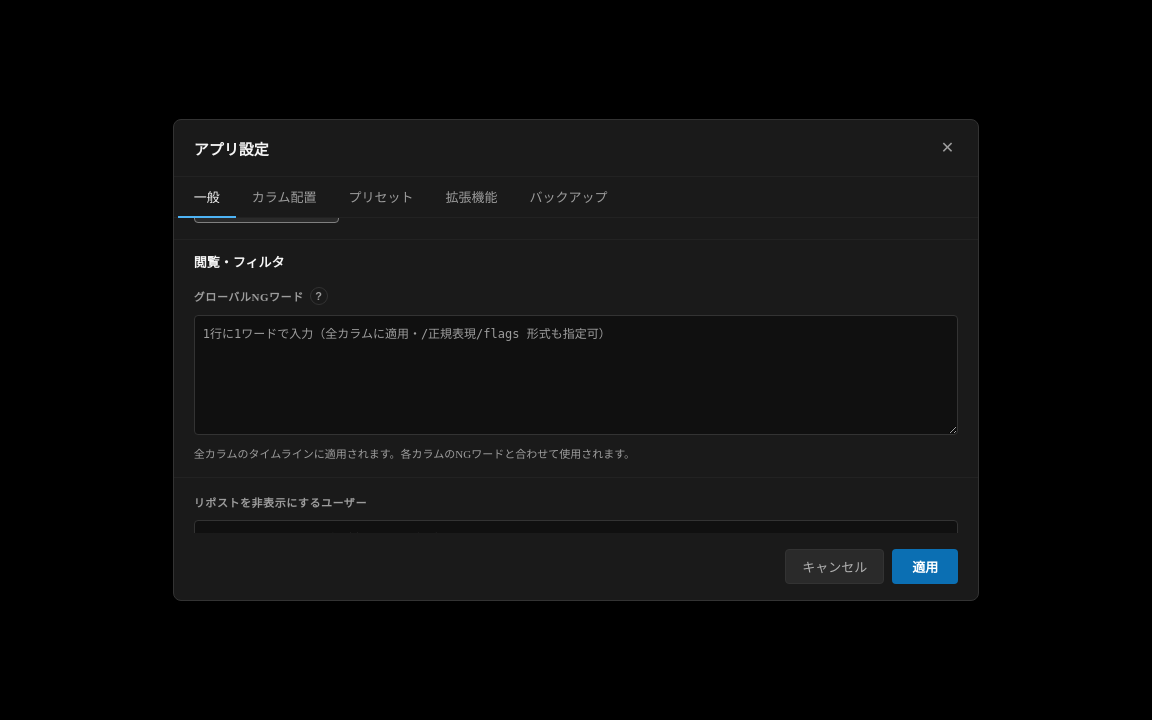
AppSettingsPanel グローバルNGワード › 不正なNGワードを修正して再度適用するとNGワードのエラーが消える
(page scrolled)
Step 1. Type "/[ [/" into the text box with placeholder "1行に1ワードで入力（全カラムに適用・/正規表現/flags 形式も指定可）" → (576, 375), box [194,315,958,435]
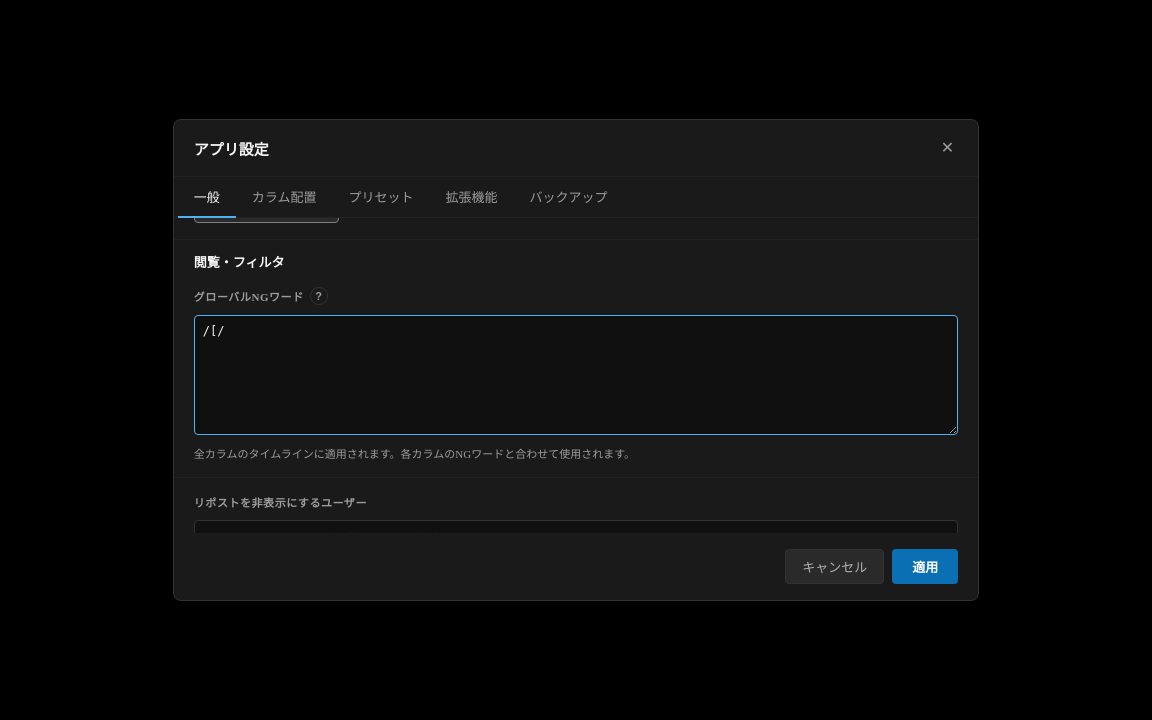
Step 2. Click the button "適用" → (925, 566), box [892,549,958,584]
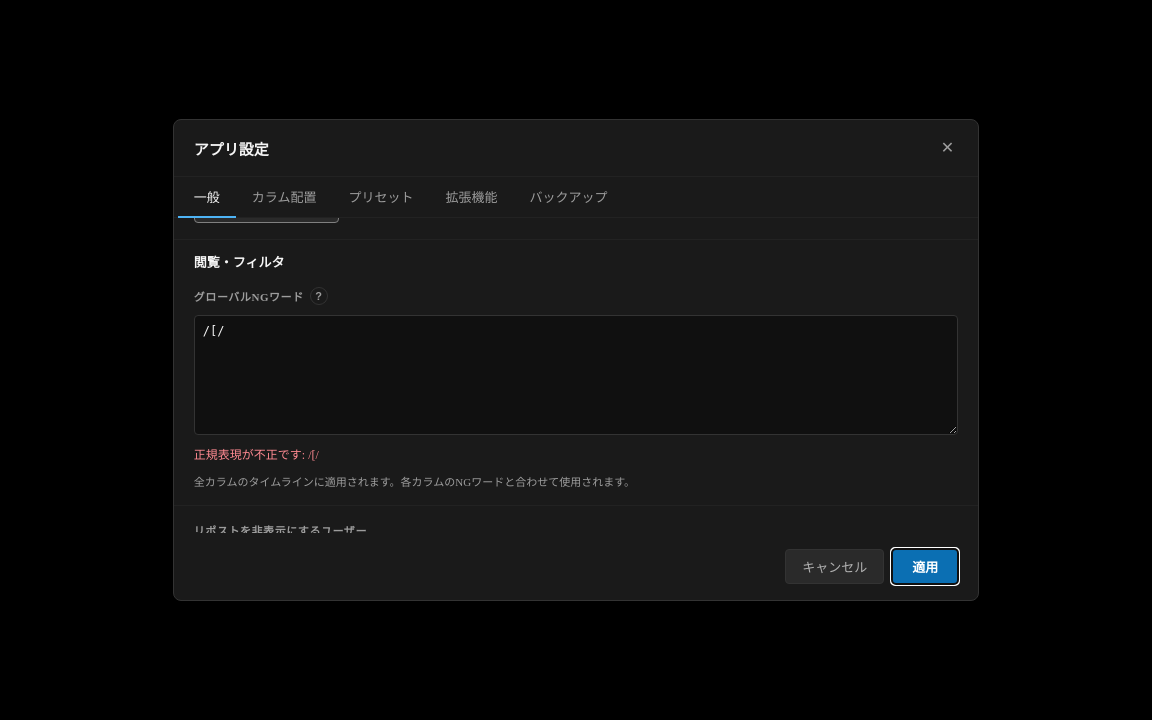
expect the text "正規表現が不正です: /[/" is shown: met, box [194,448,319,462]
Step 3. Replace the text in the text box with "spam" → (576, 375), box [194,315,958,435]
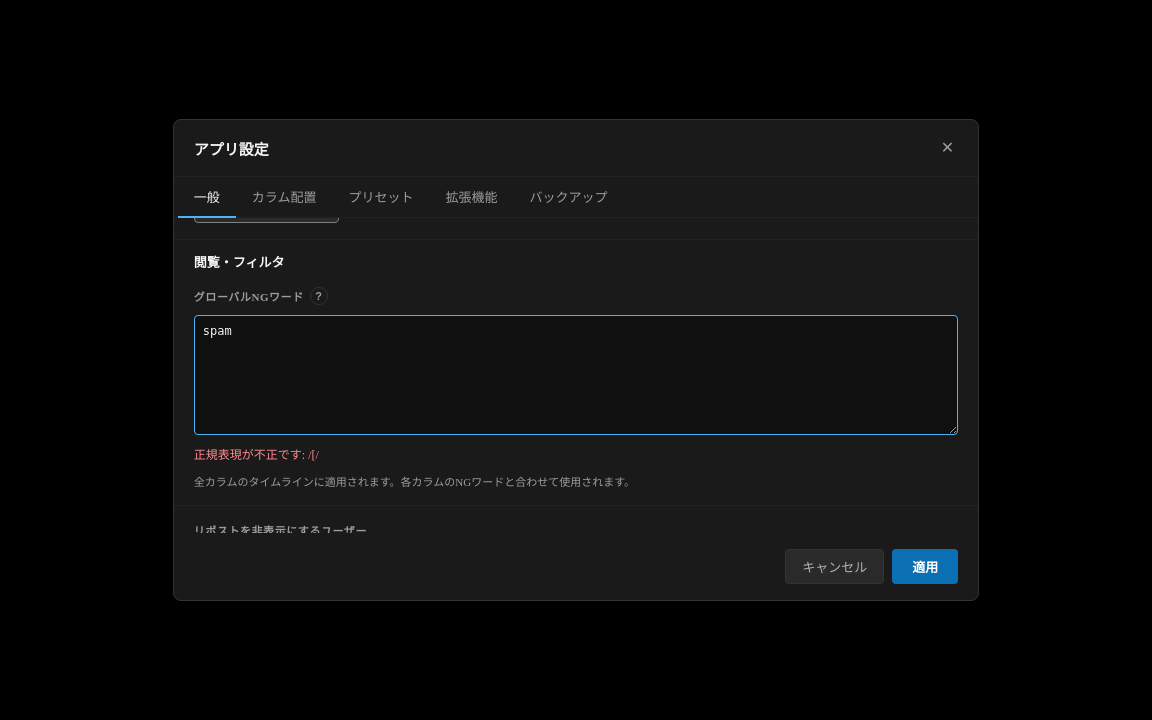
Step 4. Click the button "適用" → (925, 566), box [892,549,958,584]
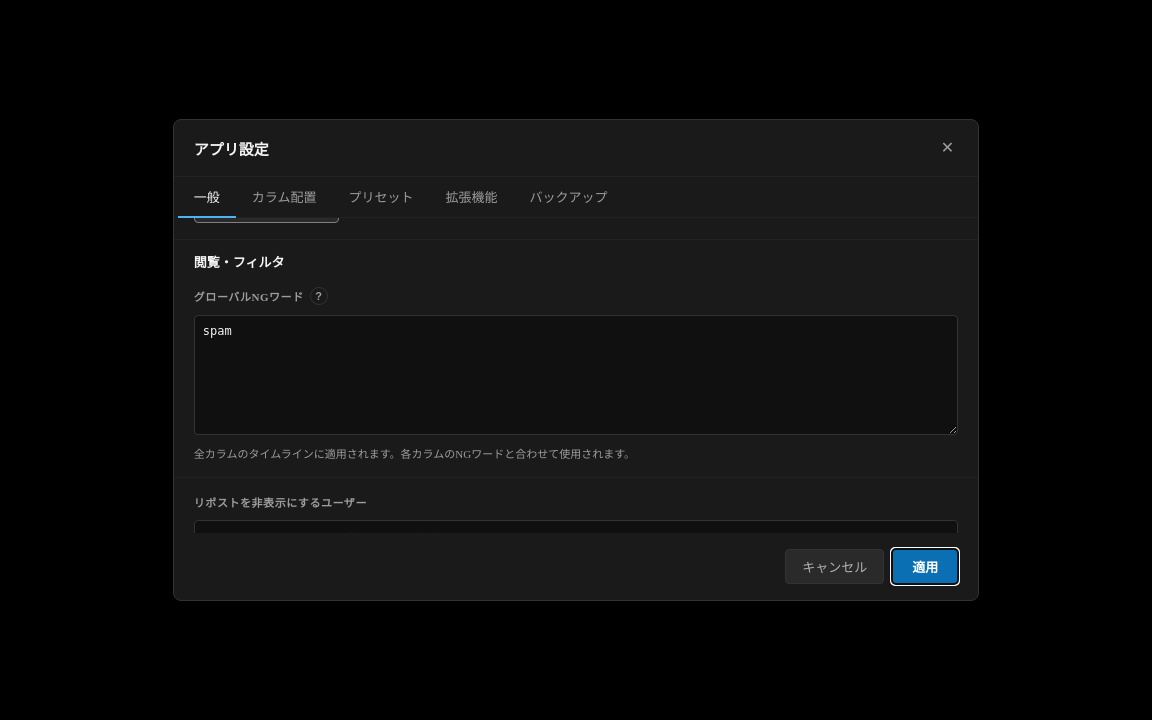
expect the text "正規表現が不正です" is gone: met
